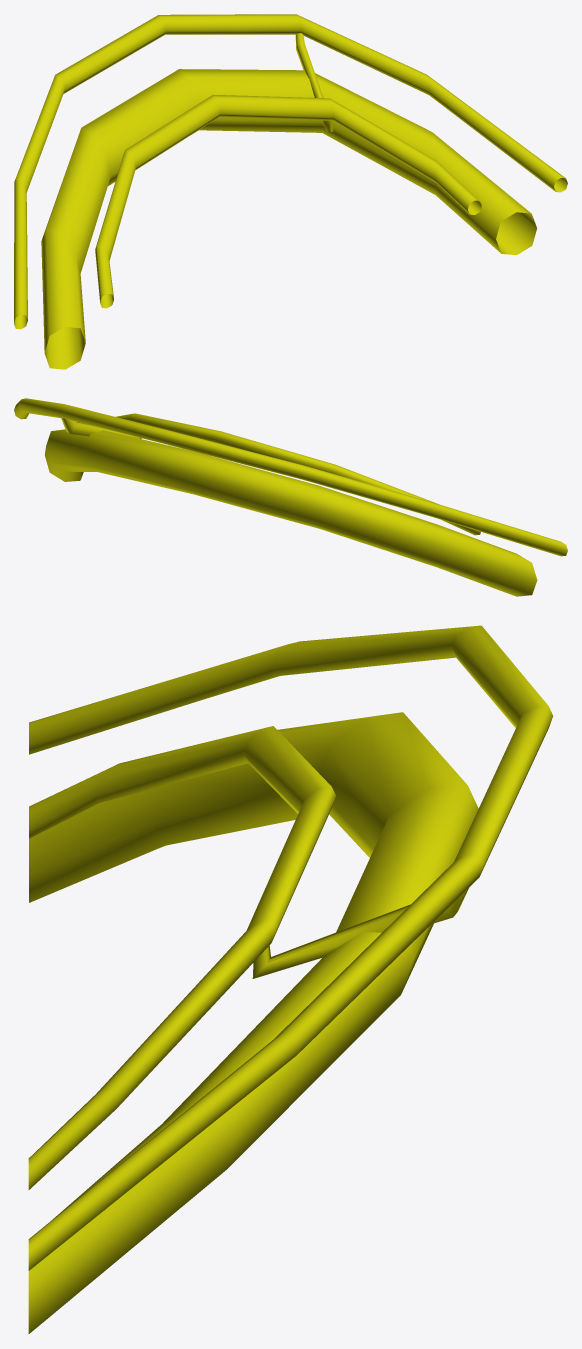
The picture shows the model from 3 angles, top to bottom: view 1: azimuth 30°, elevation 25°; view 2: azimuth 150°, elevation 25°; view 3: azimuth 270°, elevation 25°; orthographic projection. The views are drawn at different scales.
Parts seen in each view (by area): view 1: Mesh; view 2: Mesh; view 3: Mesh.
Part boxes in pixels (x1=…): Mesh: x1=14, y1=14, x2=567, y2=369; Mesh: x1=14, y1=398, x2=567, y2=596; Mesh: x1=28, y1=625, x2=552, y2=1333.
Bounding box in the file's own units: 365 × 129 × 150.
